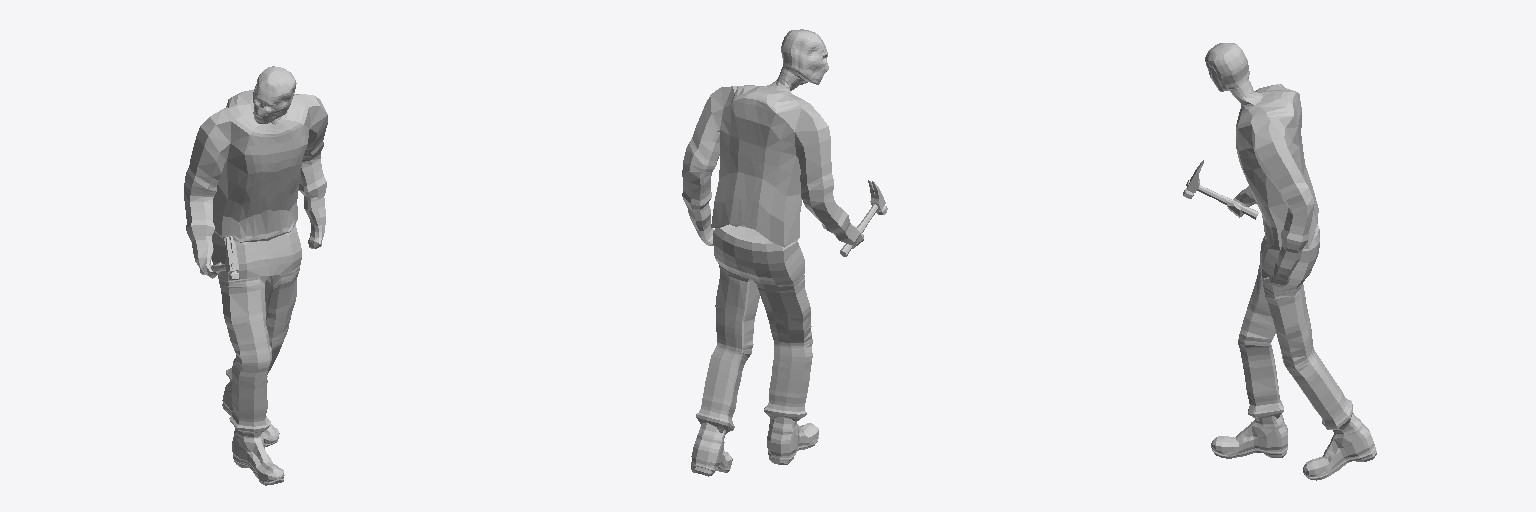
The model's file is Murderer_Idle47.obj.
The picture shows the model from 3 angles: view 1: azimuth 30°, elevation 25°; view 2: azimuth 150°, elevation 25°; view 3: azimuth 270°, elevation 25°; orthographic projection.
Visible parts, largest first — view 1: Körper, Beine, Stiefel, Hammer; view 2: Körper, Beine, Stiefel, Hammer; view 3: Körper, Beine, Stiefel, Hammer.
Boxes of the visible parts, <box> form: Körper: <box>184,66,327,278</box>; Beine: <box>212,224,301,433</box>; Stiefel: <box>222,380,284,485</box>; Hammer: <box>200,236,239,280</box>; Körper: <box>682,29,863,248</box>; Beine: <box>696,224,812,433</box>; Stiefel: <box>691,417,818,476</box>; Hammer: <box>840,180,887,256</box>; Körper: <box>1205,43,1318,287</box>; Beine: <box>1238,224,1352,430</box>; Stiefel: <box>1211,413,1376,480</box>; Hammer: <box>1183,160,1258,219</box>.
Bounding box in the file's own units: 0.3649 × 0.9615 × 0.4076.